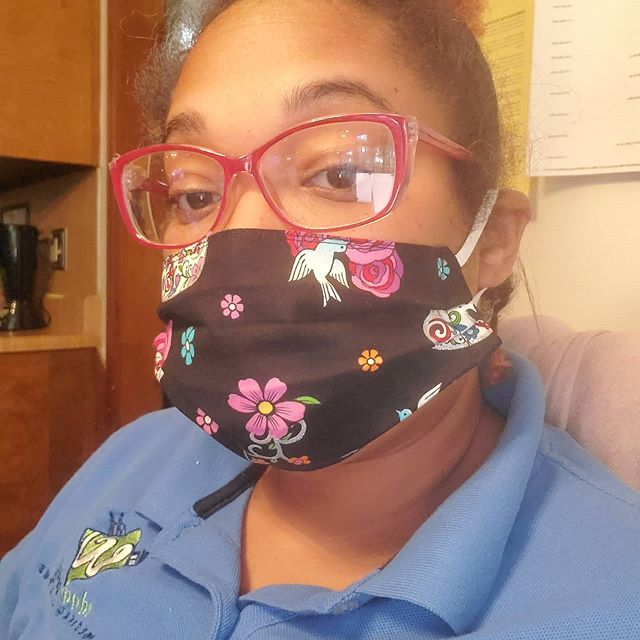homemade: (145, 242, 493, 455)
